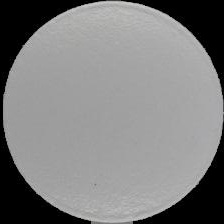0615-7563: (0, 0, 224, 224)
